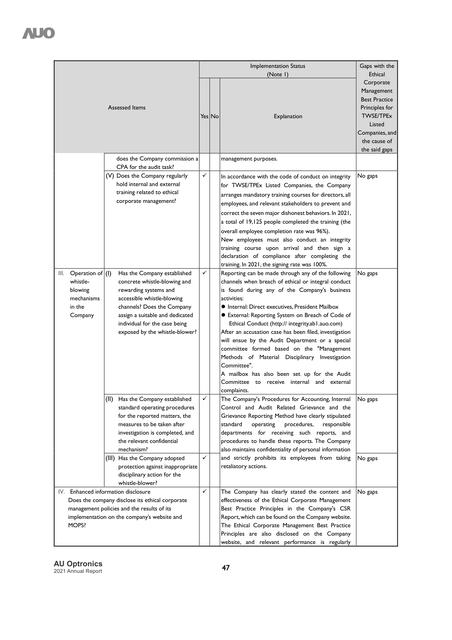box: (52, 57, 401, 550)
